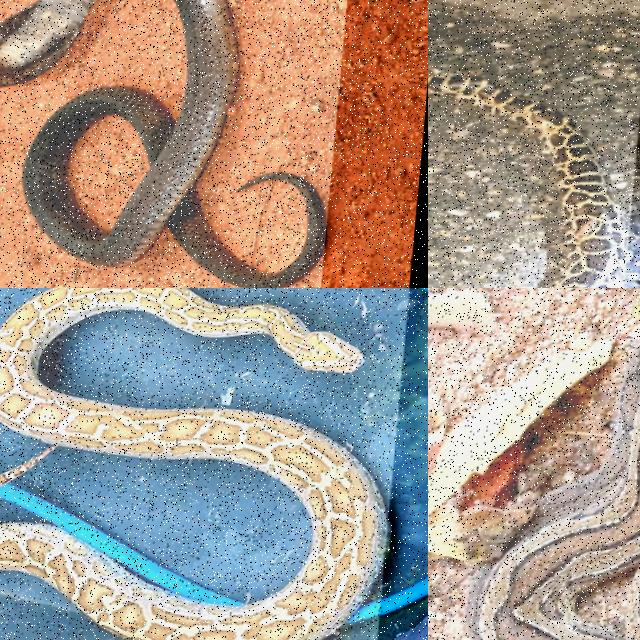Daboia siamensis: (466, 345, 639, 639)
Naja siamensis: (23, 0, 326, 287)
Python bivittatus: (0, 288, 391, 639), (428, 68, 630, 287)
